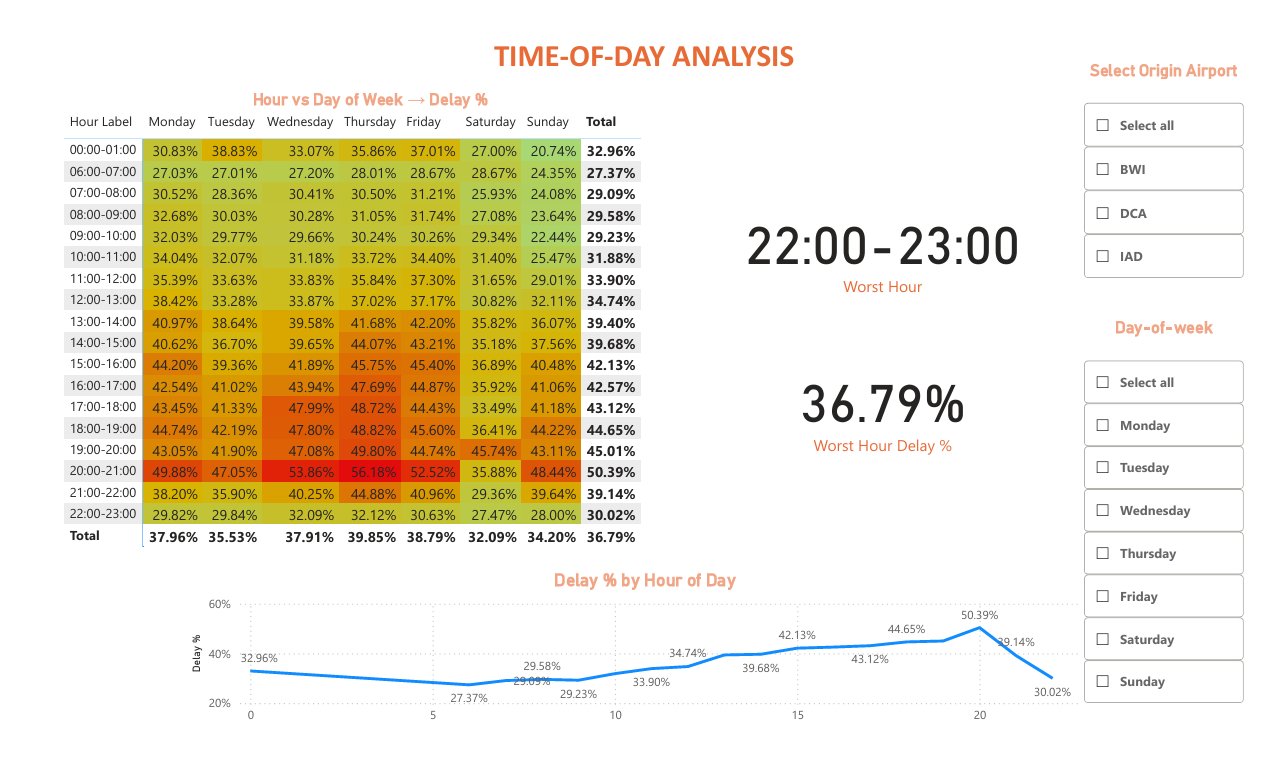

The page's visual inventory and layout, read from the dashboard file:
{"tool":"powerbi","page":{"name":"Time-of-Day Analysis","canvas":[1280,720],"ordinal":3},"visuals":[{"type":"textbox","box":[466.3,0,349,57.9],"z":0},{"type":"lineChart","title":"Delay % by Hour of Day","fields":{"Category":["dimTime.HourID"],"Y":["FactFlights.Delay %"]},"box":[169.9,552.6,943.1,167.4],"z":5001},{"type":"advancedSlicerVisual","title":"Select Origin Airport","fields":{"Values":["dimAirport.Origin Airport"]},"box":[1088,29,173.7,251.4],"z":5003},{"type":"advancedSlicerVisual","title":"Day-of-week","fields":{"Values":["FactFlights.Day of Week"]},"box":[1088,294.1,173.7,426.7],"z":5004},{"type":"pivotTable","title":"Hour vs Day of Week → Delay %","fields":{"Rows":["dimTime.Hour Label"],"Columns":["FactFlights.Day of Week"],"Values":["FactFlights.Delay %"]},"box":[40.2,58.4,638.3,494.3],"z":5005},{"type":"card","fields":{"Values":["FactFlights.Worst Hour Label"]},"box":[696.6,166.1,378.8,114.2],"z":5006},{"type":"card","fields":{"Values":["FactFlights.Worst Hour Delay %"]},"box":[714.8,325.6,342.5,120.6],"z":5007}]}

Visuals, with their boxes on the page's 1280x720 design canvas (x1, y1, x2, y2). These are canvas units, not pixel positions in the 1263x762 screenshot, which may show the page scaled, cropped or inside an application window:
textbox: [left=466, top=0, right=815, bottom=58]
"Delay % by Hour of Day" lineChart: [left=170, top=553, right=1113, bottom=720]
"Select Origin Airport" advancedSlicerVisual: [left=1088, top=29, right=1262, bottom=280]
"Day-of-week" advancedSlicerVisual: [left=1088, top=294, right=1262, bottom=721]
"Hour vs Day of Week → Delay %" pivotTable: [left=40, top=58, right=678, bottom=553]
card - FactFlights.Worst Hour Label: [left=697, top=166, right=1075, bottom=280]
card - FactFlights.Worst Hour Delay %: [left=715, top=326, right=1057, bottom=446]
